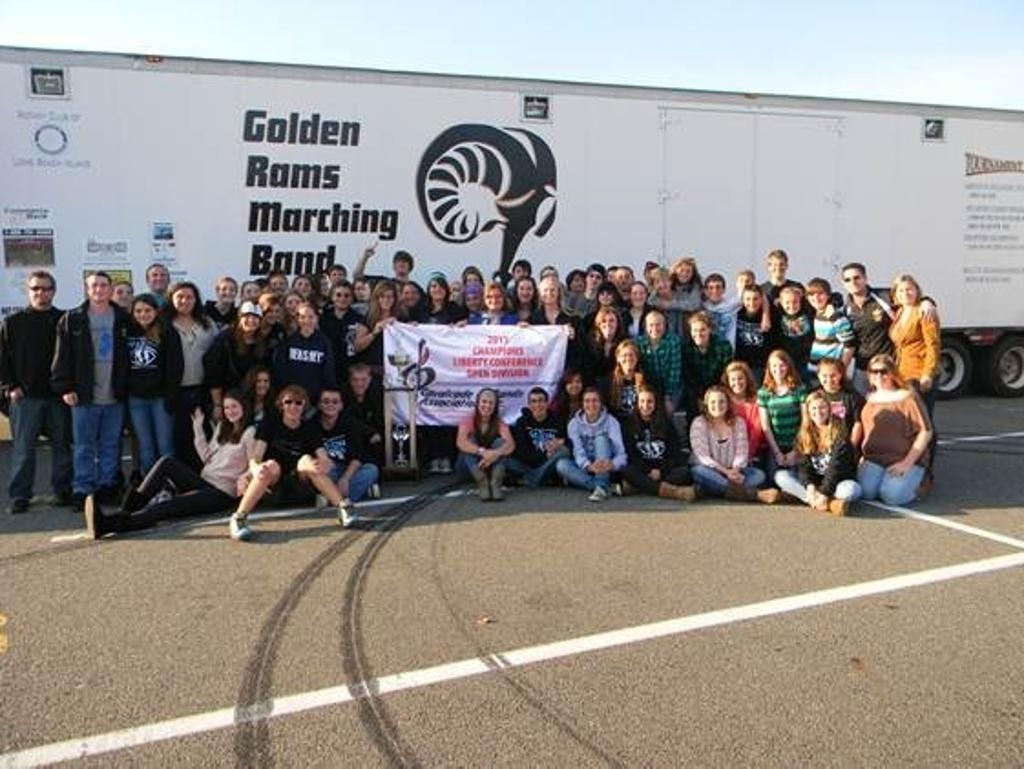human_face: (26, 275, 52, 303), (868, 363, 892, 389), (86, 274, 108, 300), (172, 286, 194, 312), (348, 370, 370, 394), (818, 367, 842, 389), (897, 280, 917, 306), (134, 302, 156, 324), (842, 270, 864, 292), (148, 267, 168, 291), (320, 392, 340, 416), (284, 395, 304, 419), (222, 397, 242, 421), (484, 286, 504, 310), (690, 320, 710, 344), (726, 370, 746, 394), (808, 400, 828, 424), (299, 306, 317, 332), (332, 286, 352, 308), (782, 293, 802, 315), (114, 282, 132, 306), (708, 392, 726, 416), (600, 312, 618, 335), (240, 312, 260, 332), (768, 358, 788, 378), (646, 316, 664, 338), (619, 347, 637, 369), (582, 393, 600, 415), (529, 392, 547, 414), (768, 256, 786, 278), (478, 392, 494, 416), (218, 282, 236, 302), (252, 373, 270, 393), (704, 280, 724, 298), (742, 290, 760, 310), (808, 290, 826, 308), (638, 391, 652, 414), (294, 276, 310, 296), (540, 284, 556, 304), (616, 270, 632, 290), (518, 279, 532, 301), (244, 284, 260, 302), (431, 281, 447, 299), (630, 286, 646, 304), (674, 262, 690, 280), (566, 377, 582, 395), (378, 288, 392, 308), (271, 276, 287, 293), (737, 276, 753, 293), (464, 293, 480, 309), (286, 296, 300, 314), (404, 286, 418, 304), (586, 270, 600, 288), (267, 303, 279, 323), (330, 268, 344, 284), (599, 288, 613, 304), (514, 266, 526, 284), (356, 282, 366, 302), (394, 260, 408, 274), (466, 274, 480, 288), (568, 274, 582, 288), (655, 278, 669, 292), (606, 270, 618, 286), (318, 281, 330, 295)
